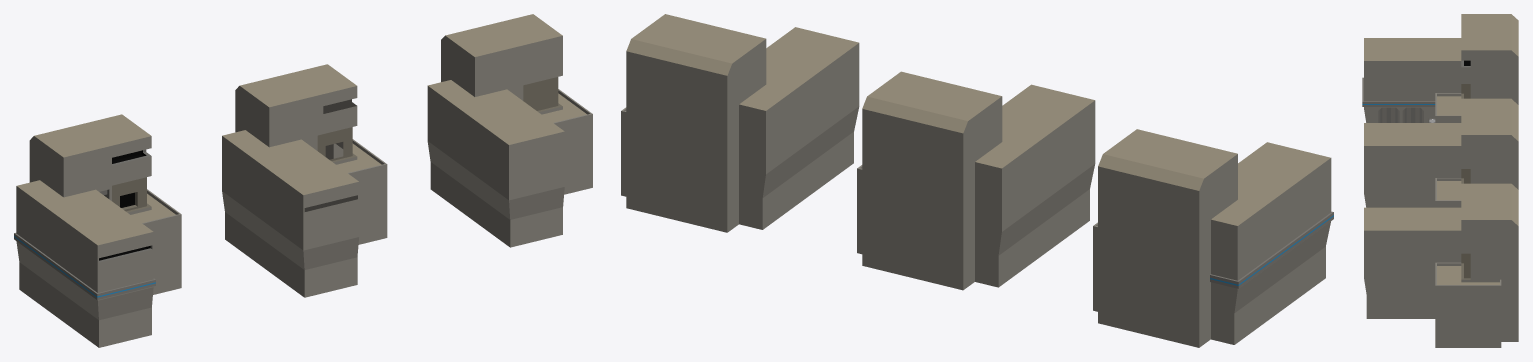
The model's file is OB_House_#2.fbx.
3 views of the same model, side by side, from view 1: azimuth 30°, elevation 25°; view 2: azimuth 150°, elevation 25°; view 3: azimuth 270°, elevation 25° (orthographic). The views are drawn at different scales.
Parts seen in each view (by area): view 1: Model_0, Model_1, Model_Skybox; view 2: Model_Skybox, Model_0, Model_1; view 3: Model_Skybox, Model_0, Model_1.
Part boxes in pixels (x1=…): Model_0: x1=14, y1=114, x2=181, y2=347; Model_1: x1=222, y1=64, x2=387, y2=297; Model_Skybox: x1=427, y1=14, x2=592, y2=247; Model_Skybox: x1=621, y1=14, x2=859, y2=232; Model_0: x1=1093, y1=129, x2=1333, y2=347; Model_1: x1=857, y1=71, x2=1095, y2=290; Model_Skybox: x1=1364, y1=183, x2=1518, y2=347; Model_0: x1=1362, y1=14, x2=1518, y2=122; Model_1: x1=1364, y1=98, x2=1518, y2=207.
Bounding box in the file's own units: 18350 × 4700 × 5450.
